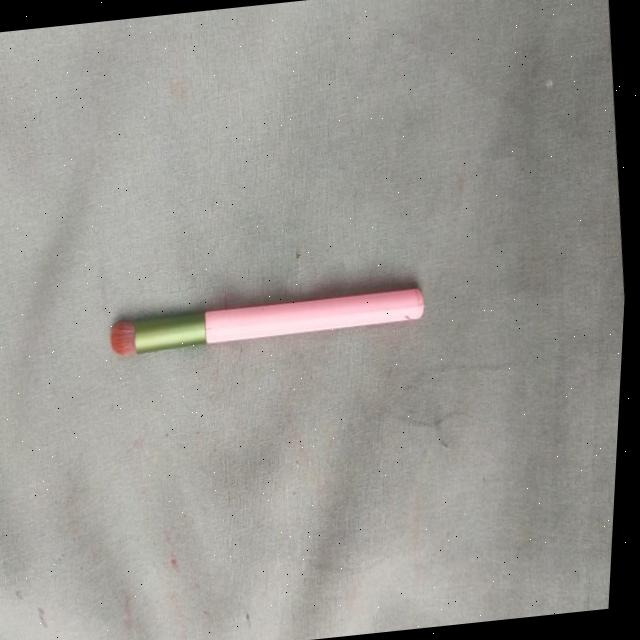brush: (84, 240, 445, 422)
